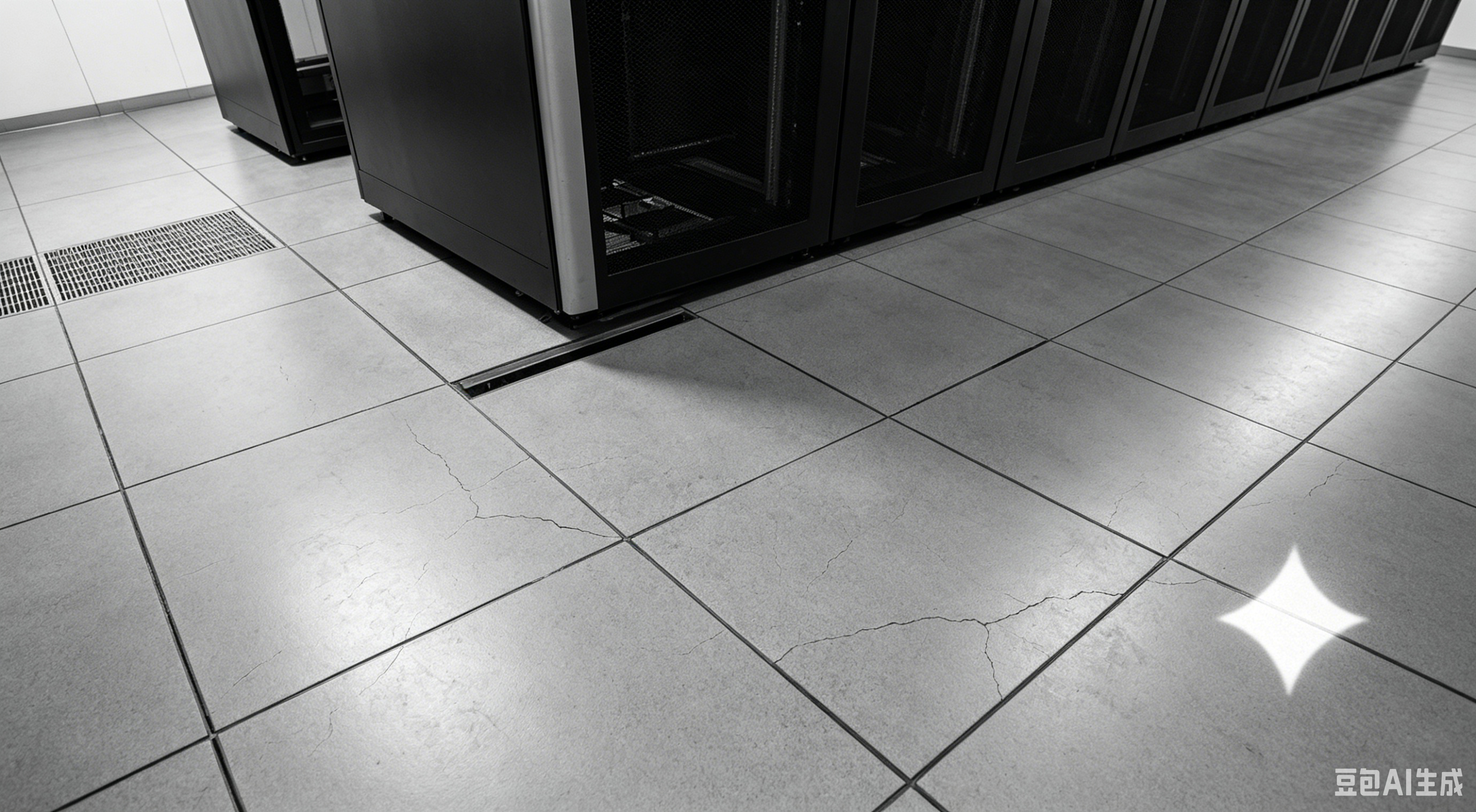floor_defect: (384, 413, 489, 524), (859, 600, 1015, 644), (492, 506, 628, 555), (519, 330, 662, 371), (761, 622, 861, 674), (441, 355, 550, 400), (1010, 578, 1121, 619), (977, 641, 1011, 711), (640, 294, 703, 327)
